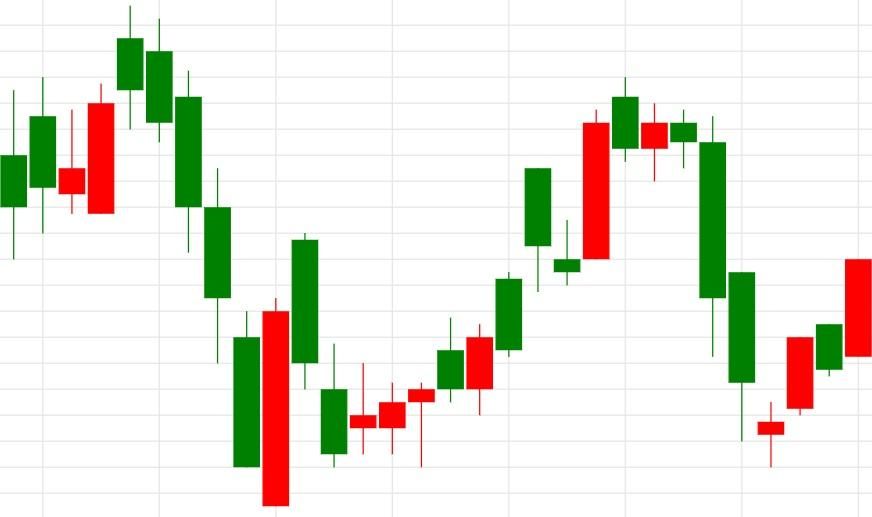bullish_engulfing_rise: (116, 6, 290, 506)
